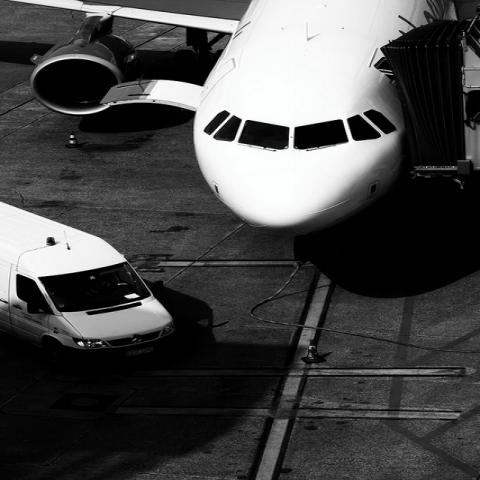truck: (0, 199, 183, 361)
